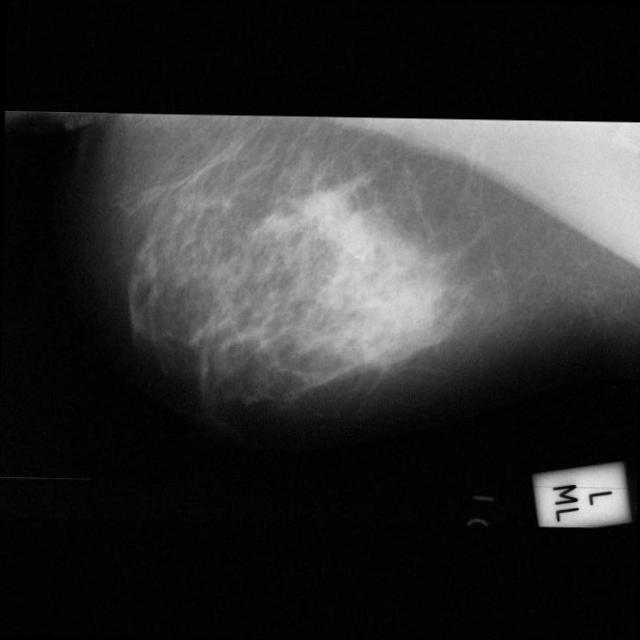CALC: (260, 180, 372, 291)
